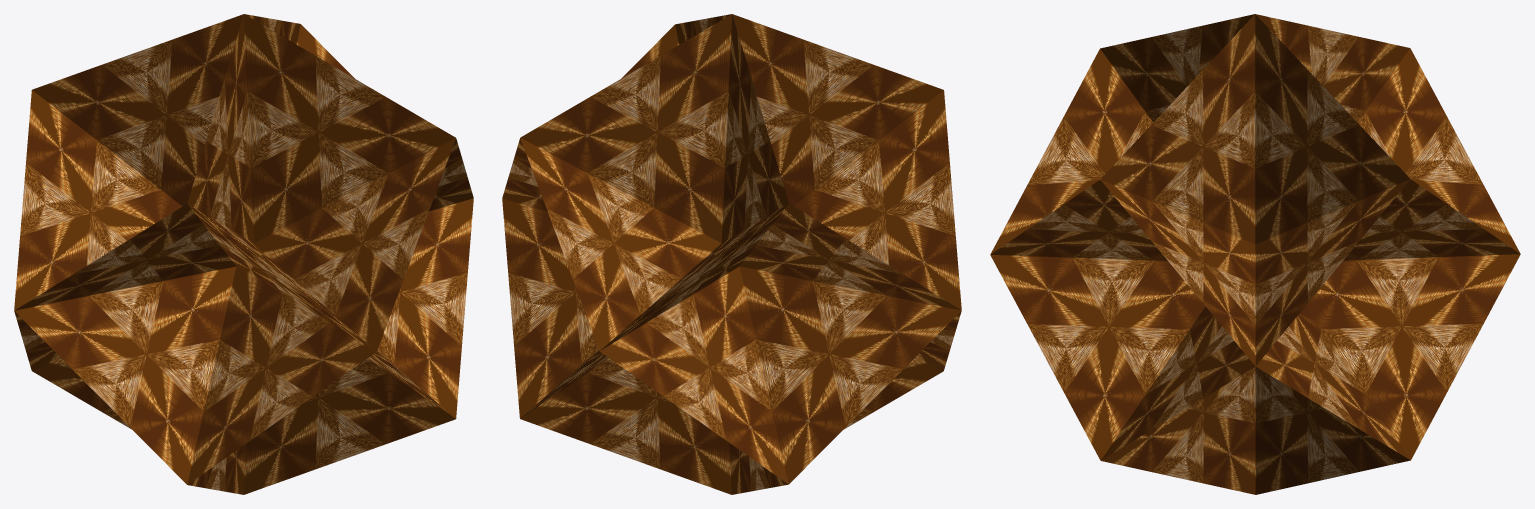
Rendered from 20Mobius48b.obj.
3 views of the same model, side by side, from view 1: azimuth 30°, elevation 25°; view 2: azimuth 150°, elevation 25°; view 3: azimuth 270°, elevation 25° (orthographic).
Bounding box in the file's own units: 2.16 × 2.16 × 2.16.
1 material, 1 textured.
